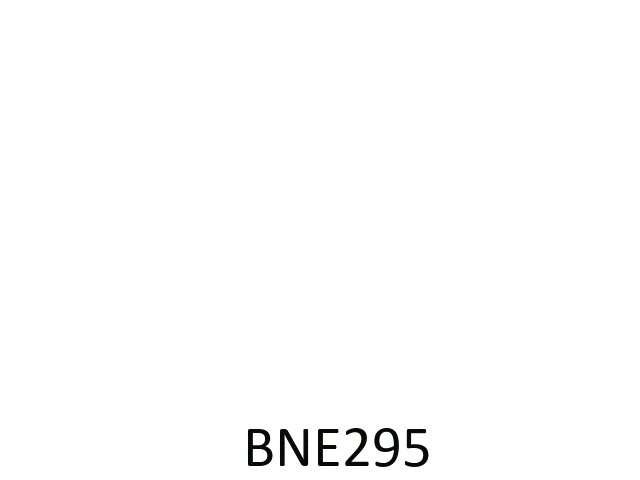OCR_AREA: (239, 424, 436, 471)
